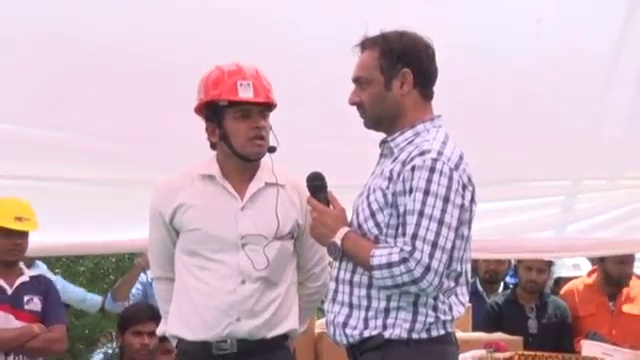helmet: (191, 63, 288, 122), (1, 195, 39, 235), (576, 337, 640, 359), (550, 256, 593, 282)
helmet_off: (351, 28, 440, 132), (110, 305, 164, 360), (517, 260, 559, 299), (593, 250, 634, 287), (475, 254, 513, 293)
helmet_on: (192, 67, 287, 167), (0, 194, 37, 270)
person: (147, 64, 331, 360), (310, 22, 471, 360), (0, 196, 72, 356), (486, 252, 576, 350), (561, 249, 640, 356), (464, 253, 519, 328)
